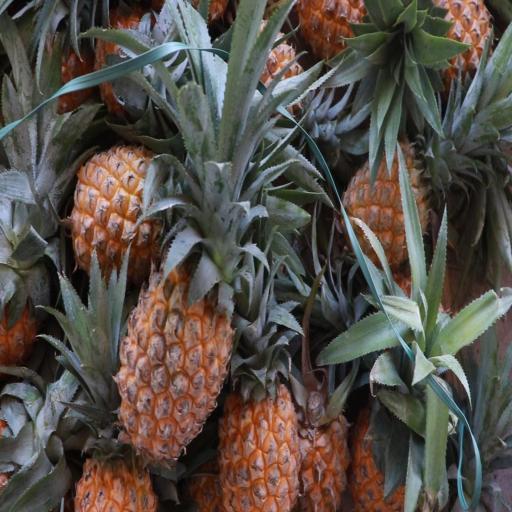Pineapple - v8 v1: (110, 226, 239, 470), (68, 135, 207, 295), (339, 130, 438, 284), (70, 366, 160, 512), (209, 367, 297, 512), (292, 374, 353, 512)
